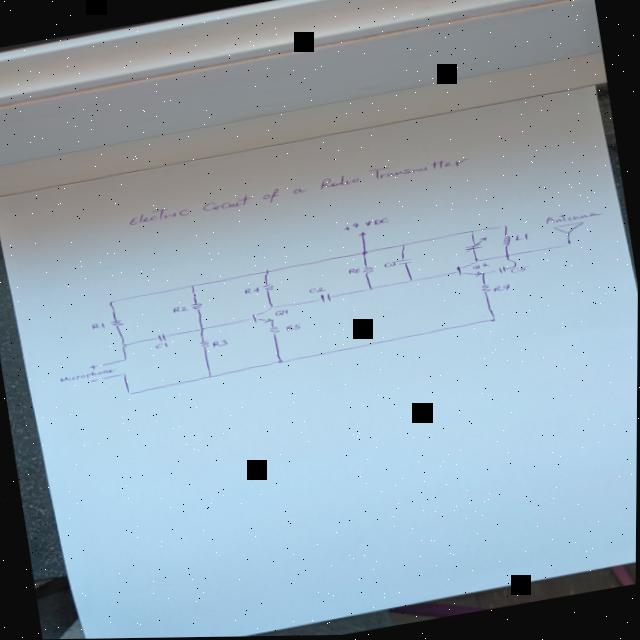capacitor: (460, 236, 489, 255), (316, 291, 334, 304), (393, 256, 414, 267), (494, 266, 509, 276), (155, 331, 168, 342)
inductor: (498, 235, 512, 249)
junction: (273, 358, 286, 365), (118, 341, 128, 349), (261, 268, 270, 275), (124, 390, 133, 396), (488, 318, 497, 324), (468, 229, 477, 235), (197, 326, 206, 331), (502, 254, 511, 259), (366, 286, 375, 291), (106, 299, 115, 304), (359, 250, 368, 255), (564, 242, 573, 247), (205, 373, 213, 378), (406, 279, 413, 284), (499, 225, 507, 229), (120, 372, 126, 376), (121, 357, 127, 361), (510, 265, 516, 269), (188, 284, 194, 288), (399, 243, 405, 247)
resistor: (478, 282, 492, 295), (189, 301, 204, 312), (108, 317, 124, 327), (360, 264, 373, 276), (197, 339, 211, 350), (267, 324, 281, 335), (260, 282, 275, 292)
source: (356, 230, 367, 237)
terminal: (98, 376, 104, 380), (99, 363, 105, 367)
text: (124, 151, 473, 228), (542, 207, 603, 226), (58, 366, 116, 383), (341, 216, 390, 232), (241, 285, 260, 296), (210, 338, 229, 349), (508, 266, 530, 275), (306, 286, 327, 295), (469, 262, 490, 271), (491, 284, 511, 293), (171, 304, 190, 313), (284, 322, 301, 332), (512, 233, 529, 243), (90, 321, 105, 330), (273, 309, 289, 317), (153, 341, 169, 349), (346, 267, 361, 275), (381, 261, 396, 269), (86, 363, 97, 370), (88, 377, 99, 383)
transistor: (453, 257, 487, 281), (246, 304, 278, 327)
